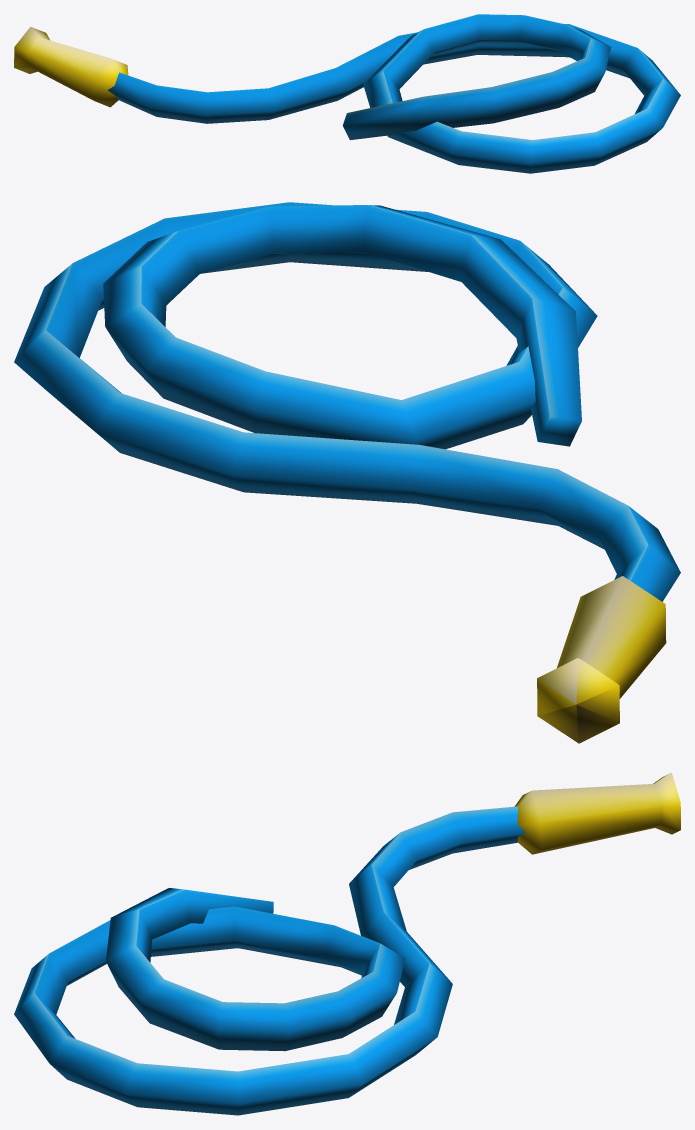
Rendered from Hose_1C.fbx.
3 views of the same model, one above another, from view 1: azimuth 30°, elevation 25°; view 2: azimuth 150°, elevation 25°; view 3: azimuth 270°, elevation 25° (orthographic). The views are drawn at different scales.
Visible parts, largest first — view 1: Hose_1C; view 2: Hose_1C; view 3: Hose_1C.
Boxes of the visible parts, x1,y1,x2,y2 form: Hose_1C: (14,14,680,173); Hose_1C: (14,202,680,743); Hose_1C: (14,772,680,1115).
Bounding box in the file's own units: 116 × 17.05 × 106.
